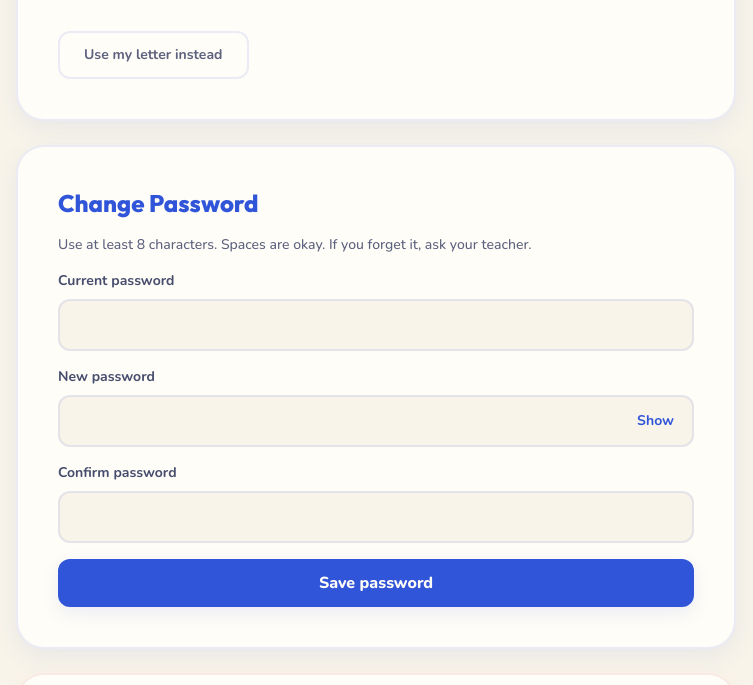
Settings — password change › shows teacher reminder on success
(page scrolled)
Type "oldpass123" into the password field labelled "Current password" at point(376, 325), box [58,299,694,351]
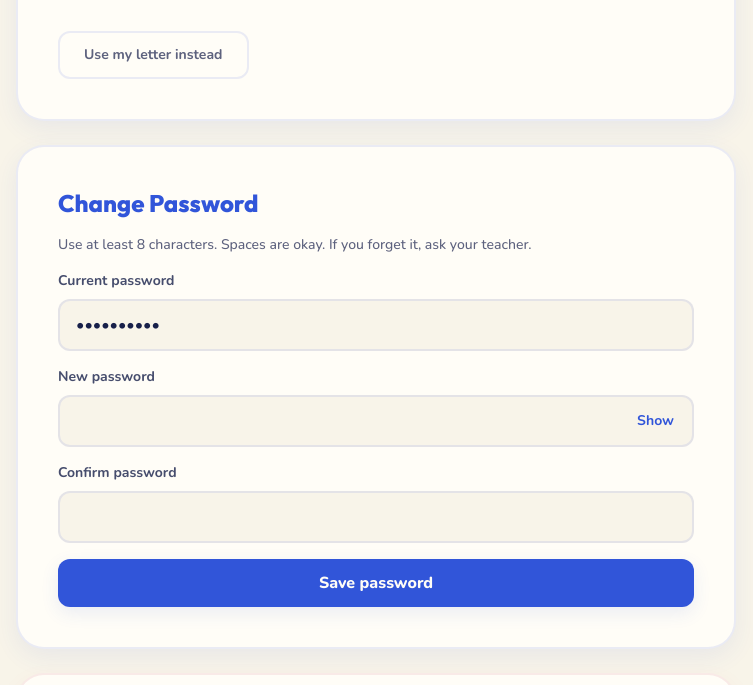
Type "newpass123" into the password field labelled "New password" at point(376, 421), box [58,395,694,447]
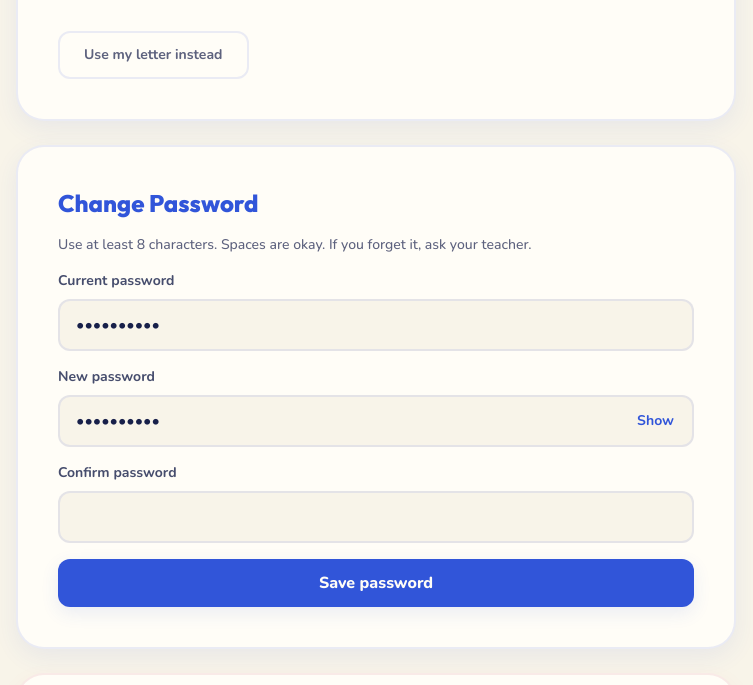
Type "newpass123" into the password field labelled "Confirm password" at point(376, 517), box [58,491,694,543]
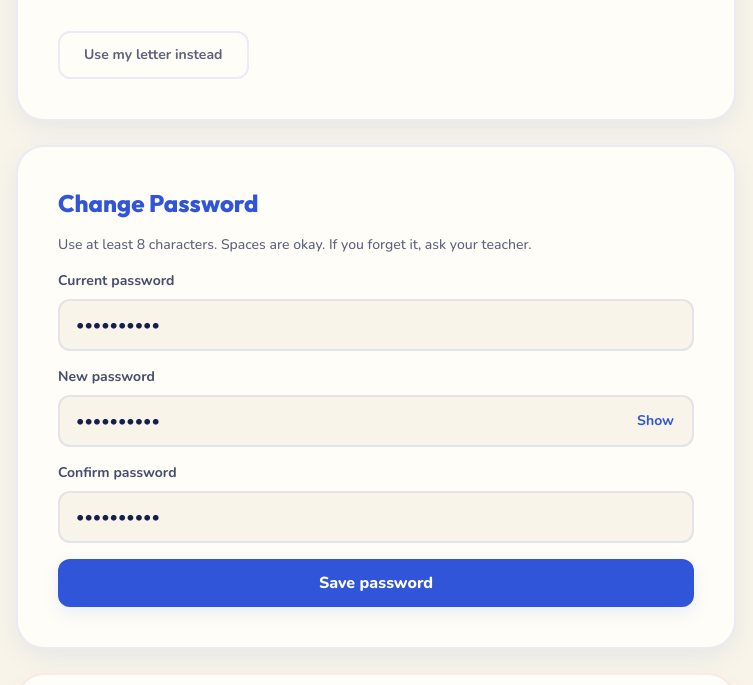
Click the button "Save password" at point(376, 583), box [58,559,694,607]
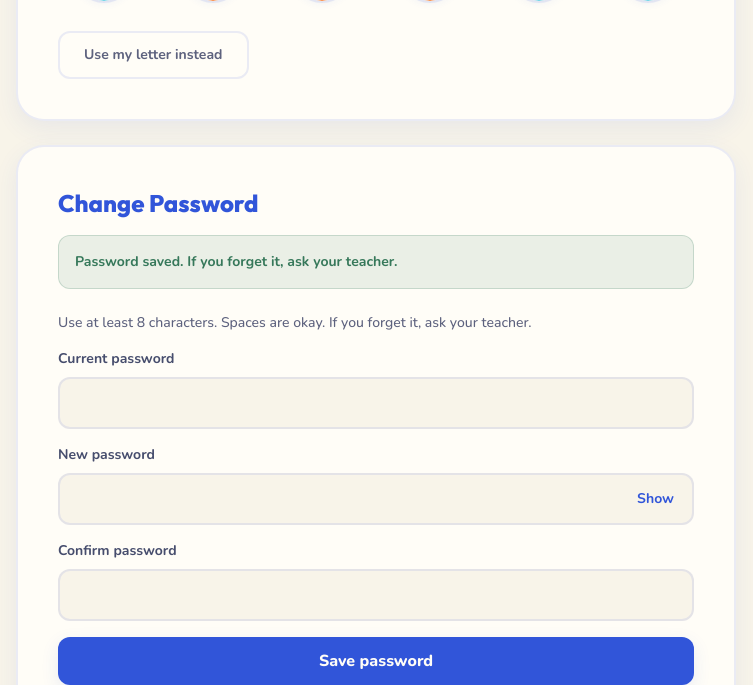
Expected: the message shows "If you forget it, ask your teacher", [75,252,397,271]
